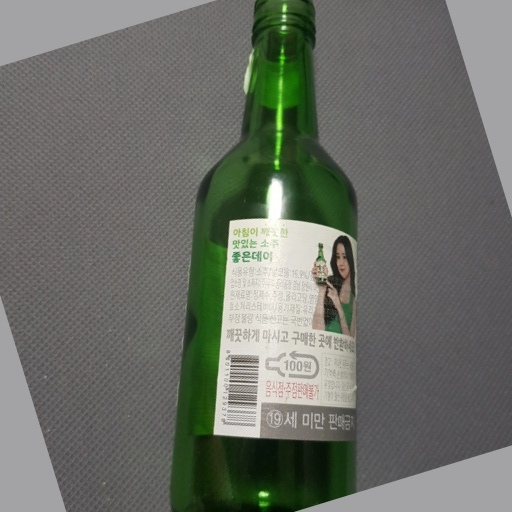Glass_0: (168, 1, 361, 512)
